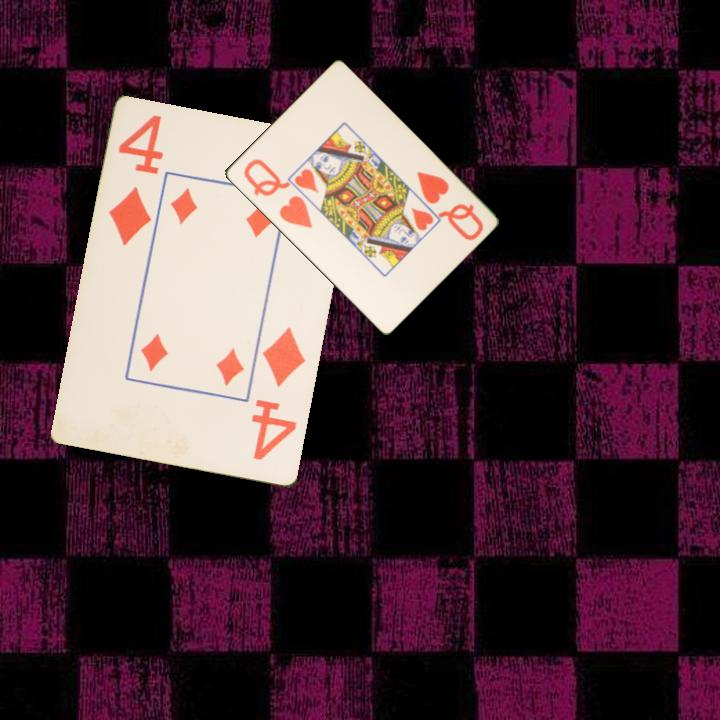4d: (248, 324, 309, 464), (105, 112, 166, 250)
Qh: (239, 155, 315, 231), (413, 168, 486, 243)
